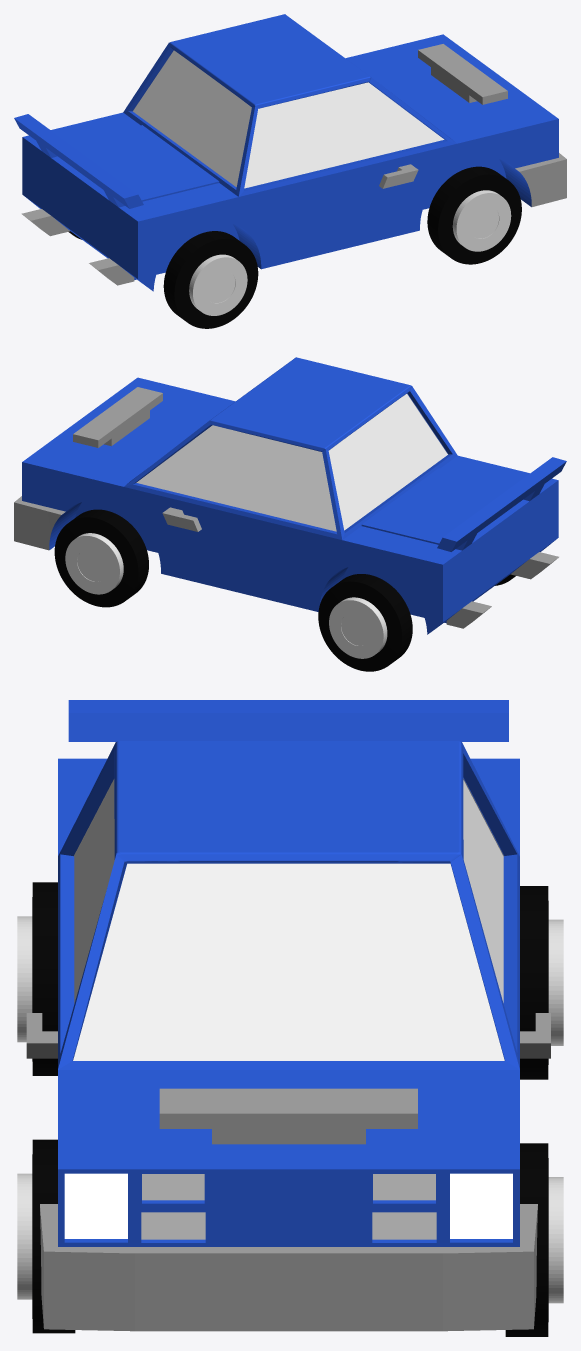
Rendered from sports_car.glb.
3 renders of one model, top to bottom at view 1: azimuth 30°, elevation 25°; view 2: azimuth 150°, elevation 25°; view 3: azimuth 270°, elevation 25°, orthographic. The views are drawn at different scales.
Parts seen in each view (by area): view 1: Text_2; view 2: Text_2; view 3: Text_2.
Part boxes in pixels (box(x1,y1,x2,y2)): Text_2: box(14, 14, 566, 328); Text_2: box(14, 357, 566, 671); Text_2: box(17, 700, 563, 1336).
Size of the model in its own units: 6.23 by 2.56 by 3.29.
